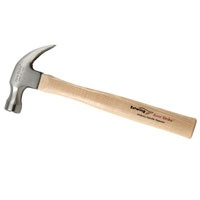hammer: (5, 43, 197, 139)
